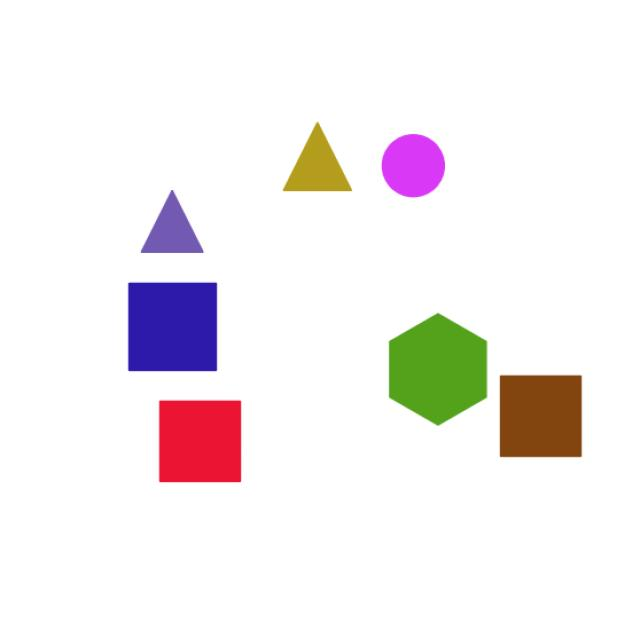Circle: (373, 126, 456, 210)
Hexagon: (361, 286, 492, 429)
Triangle: (269, 106, 360, 203), (132, 182, 221, 268)
square: (120, 270, 232, 386), (143, 392, 261, 490), (495, 363, 599, 472)
